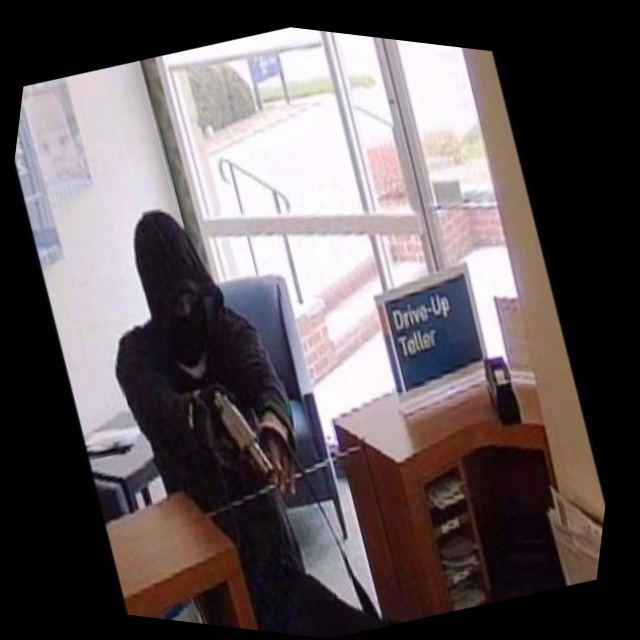gun: (187, 374, 292, 500)
